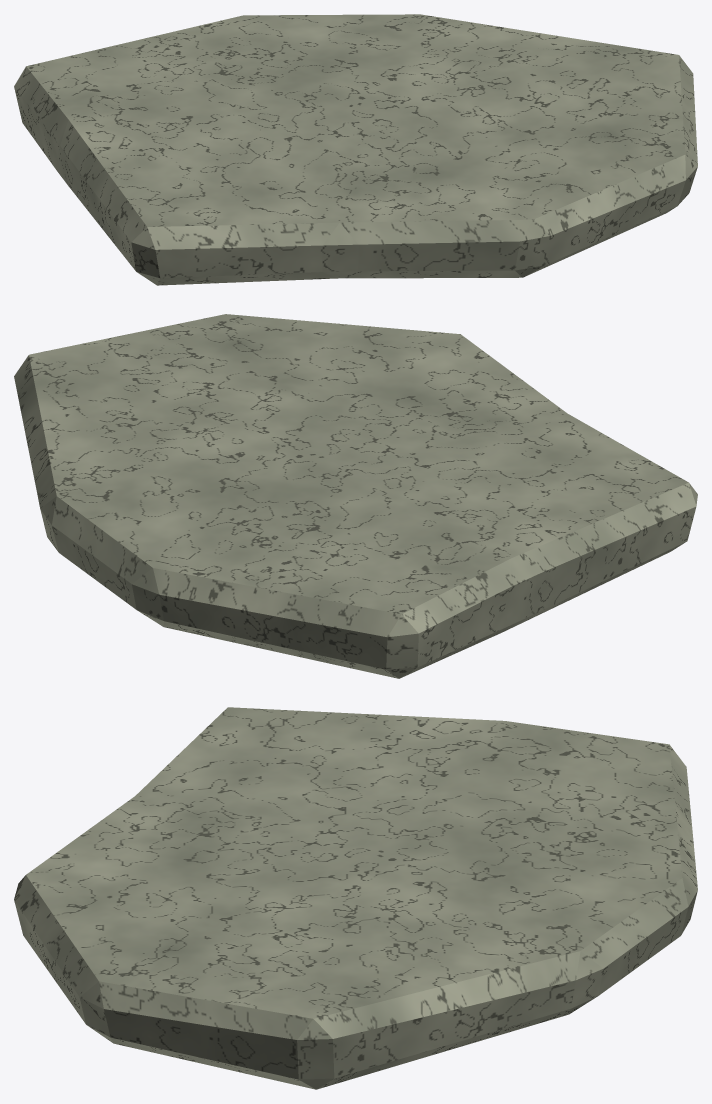
Rendered from PathStone_A.fbx.
3 renders of one model, top to bottom at view 1: azimuth 30°, elevation 25°; view 2: azimuth 150°, elevation 25°; view 3: azimuth 270°, elevation 25°, orthographic. The views are drawn at different scales.
Visible parts, largest first — view 1: PathStone_A.001; view 2: PathStone_A.001; view 3: PathStone_A.001.
Boxes of the visible parts, left/top/right/bottom form: PathStone_A.001: left=14, top=14, right=697, bottom=285; PathStone_A.001: left=14, top=314, right=697, bottom=678; PathStone_A.001: left=14, top=707, right=697, bottom=1089.
Size of the model in its own units: 0.7475 by 0.0886 by 0.6572.
